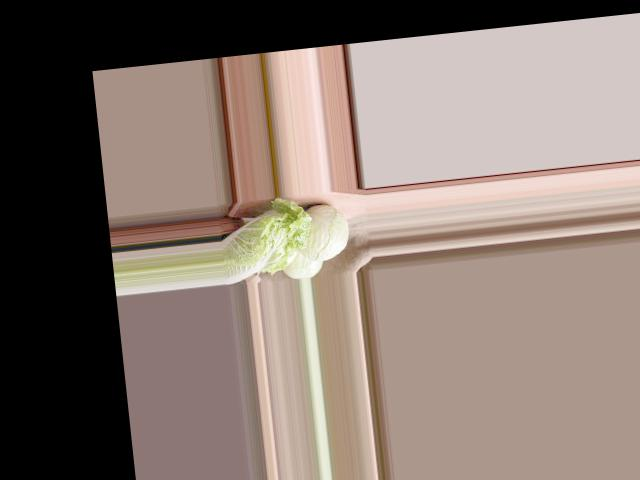lettuce: (218, 193, 317, 281)
